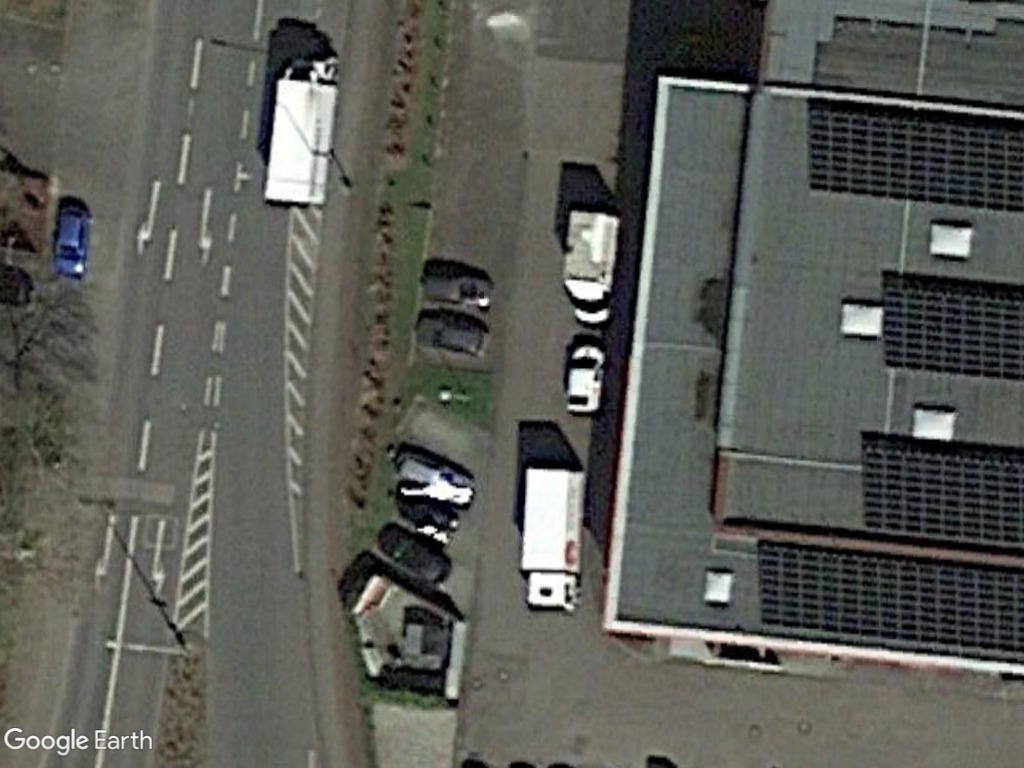car: (50, 204, 92, 283)
truck: (257, 49, 341, 213), (513, 461, 589, 617), (558, 203, 622, 329)
